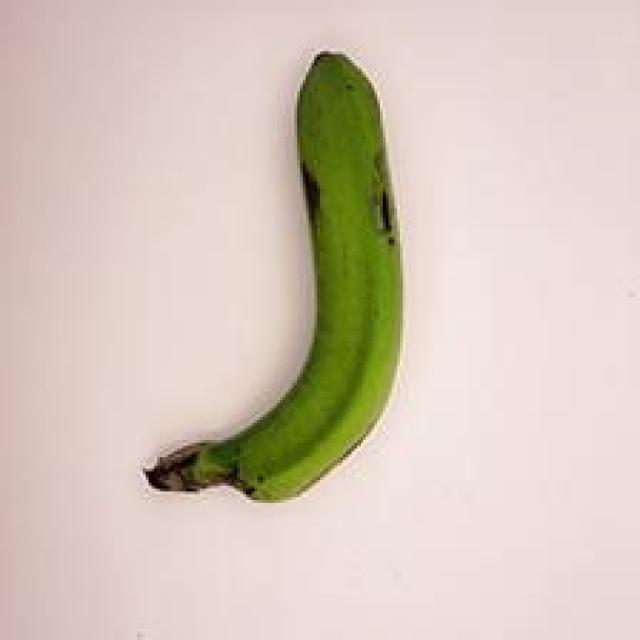Raw: (126, 28, 440, 558)
